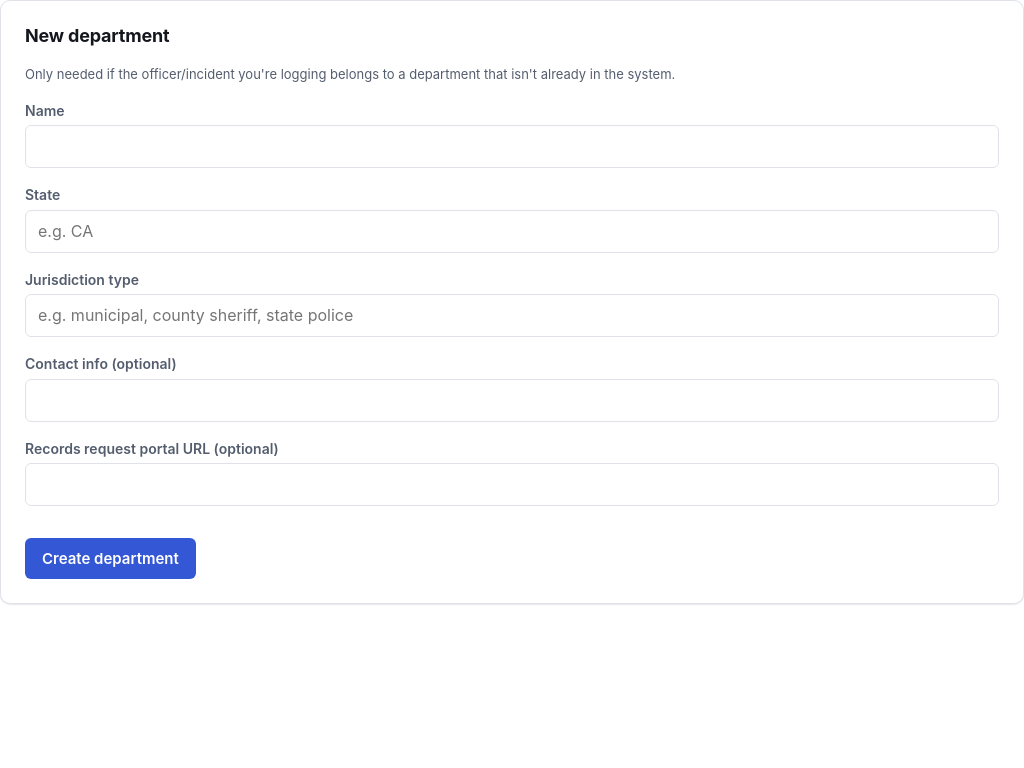
Test: NewDepartmentForm › surfaces an API error instead of swallowing it
Type "Riverdale PD" into the field labelled "Name" at (512, 147), box [25,125,999,168]
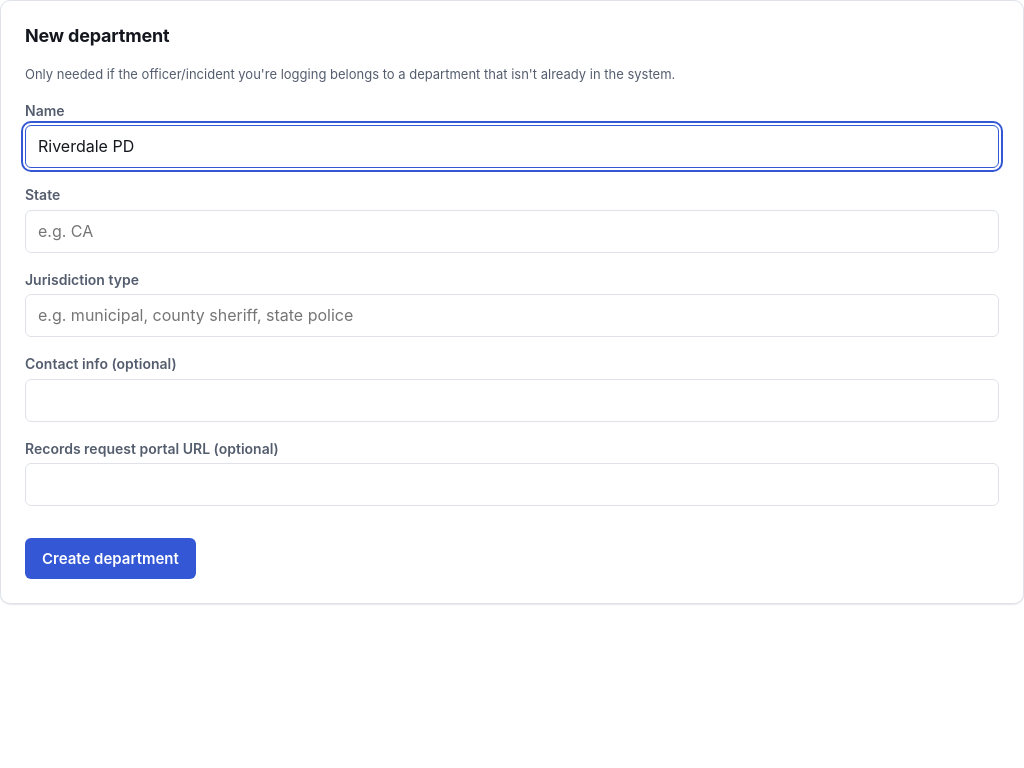
Type "CA" into the field labelled "State" at (512, 231), box [25,210,999,253]
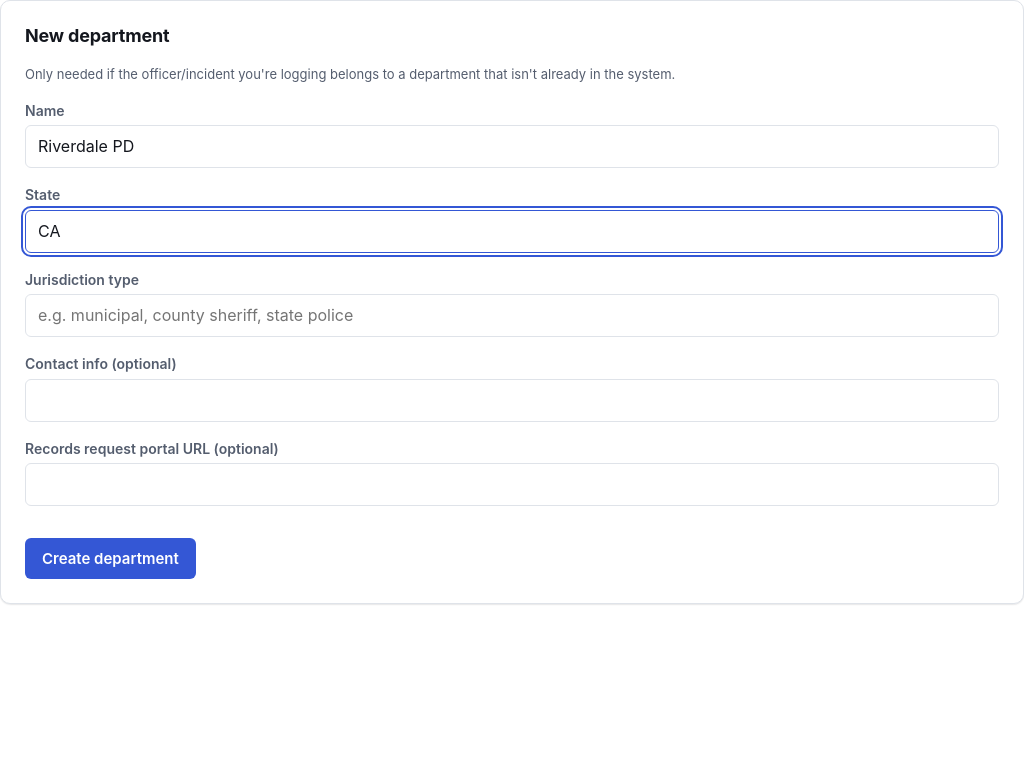
Type "municipal" into the field labelled "Jurisdiction type" at (512, 316), box [25,294,999,337]
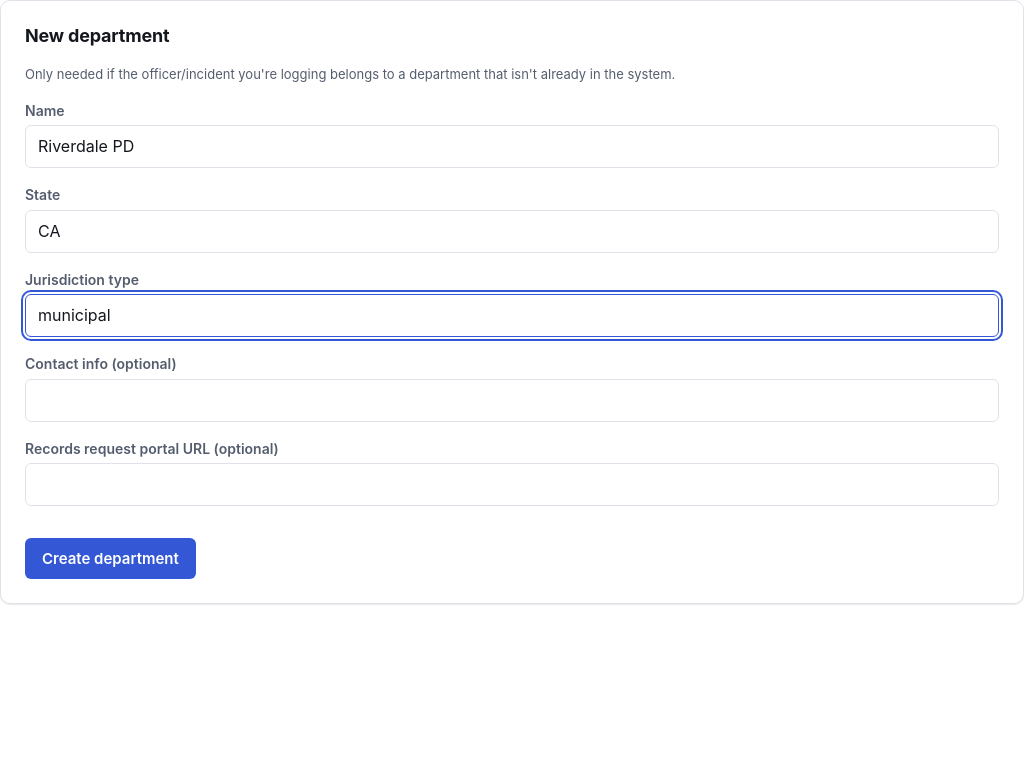
Click the button "Create department" at (110, 559), box [25,538,196,579]
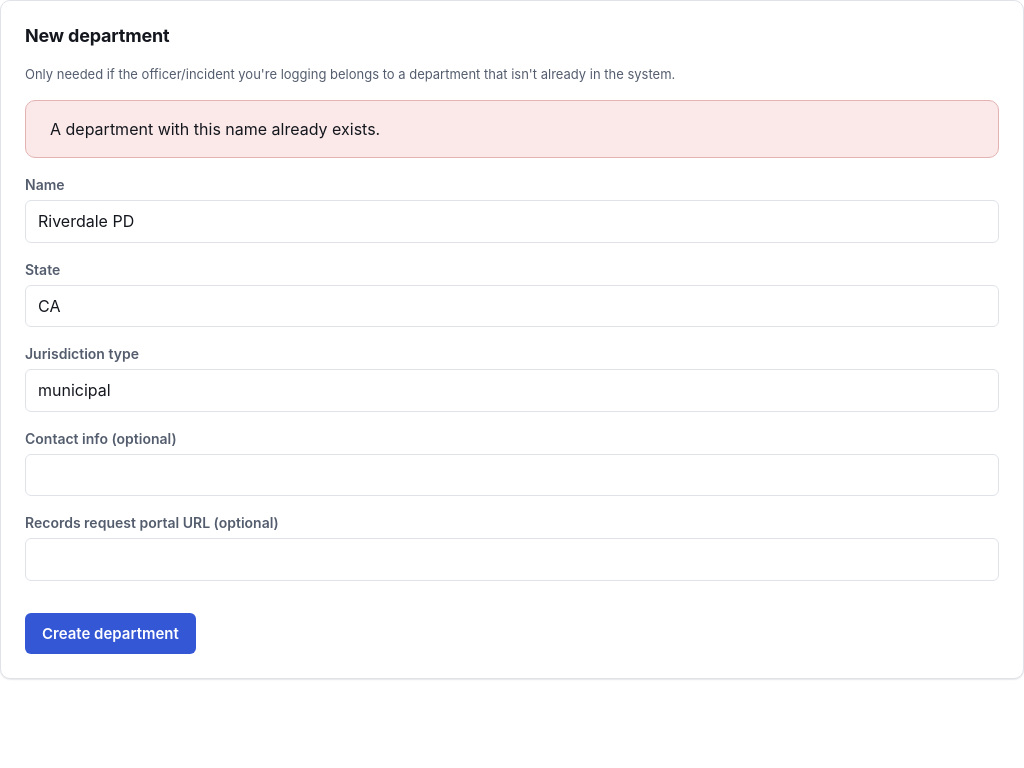
Check: the message reads "A department with this name already exists.", box [50,119,380,139]
